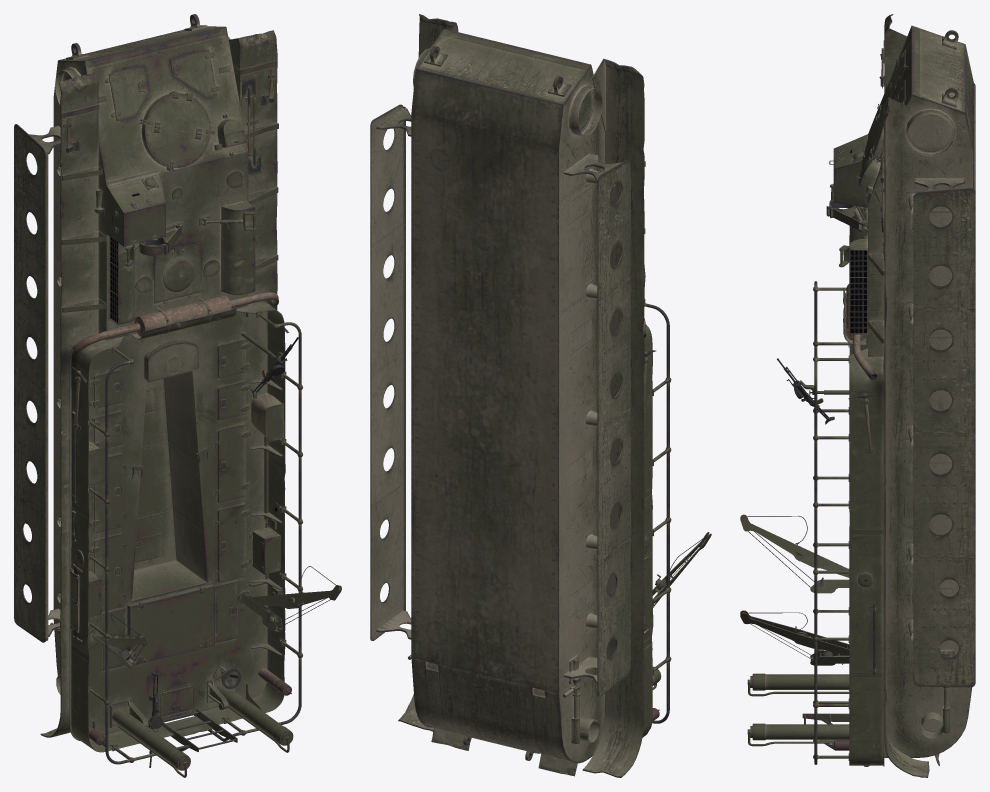
The model's file is Hull.glb.
The picture shows the model from 3 angles, left to right: view 1: azimuth 30°, elevation 25°; view 2: azimuth 150°, elevation 25°; view 3: azimuth 270°, elevation 25°; orthographic projection. The views are drawn at different scales.
Visible parts, largest first — view 1: set_0_group_0, set_0_group_1; view 2: set_0_group_0; view 3: set_0_group_0, set_0_group_1.
Part boxes in pixels (x1,y1,x2,y2): set_0_group_0: (14,14,341,777); set_0_group_1: (70,300,291,751); set_0_group_0: (370,14,711,777); set_0_group_0: (740,14,975,777); set_0_group_1: (802,390,849,750).
Size of the model in its own units: 3.24 by 9.87 by 3.03.
Materials: 2 (2 with a texture image).
